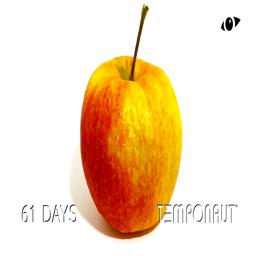Apple Semifresh: (79, 4, 184, 237)
